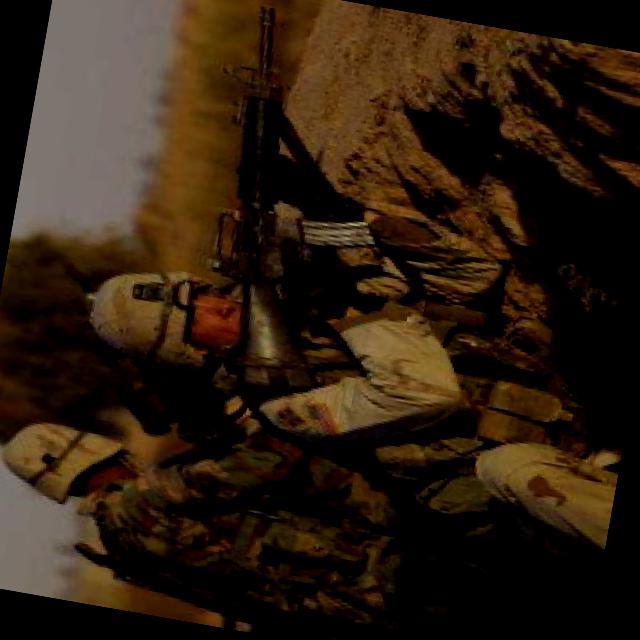long weapon: (157, 0, 371, 405)
